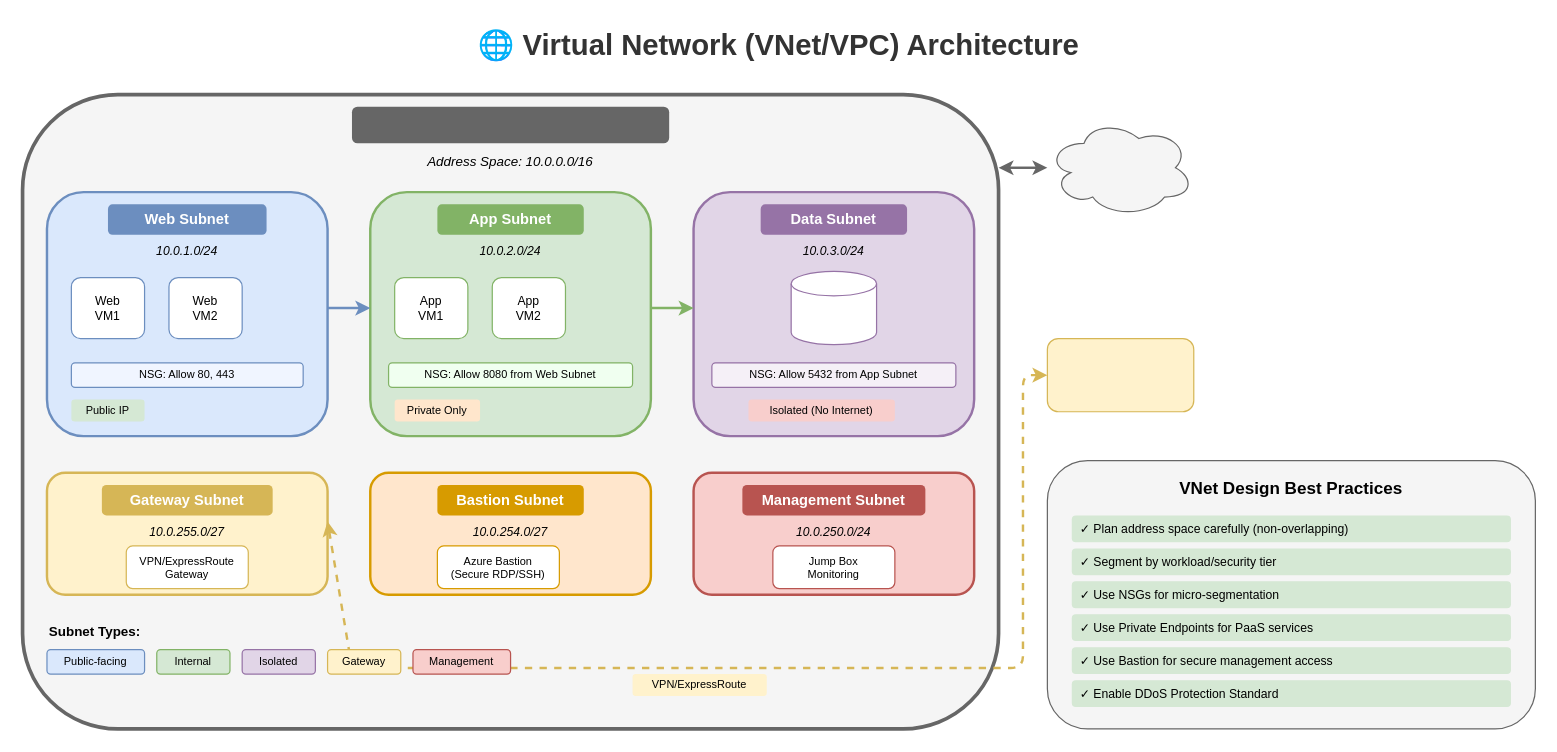
The diagram is 1557 pixels wide and 752 high, and some of its shapes have lost their labels. Here are the shapes that lost their labels. From the top down, the box of each, then its label:
(351, 106, 669, 143): Virtual Network (VNet)
(1046, 118, 1194, 217): Internet
(790, 270, 877, 345): Database
(1046, 337, 1194, 412): On-Premises Data Center
